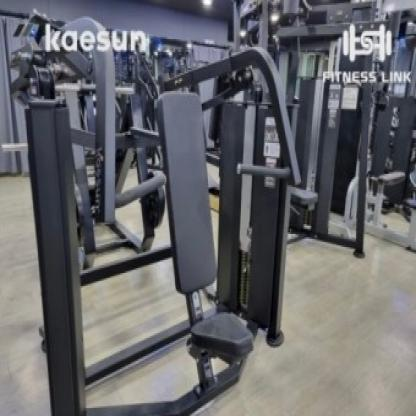Chest Press machine: (0, 9, 310, 416)
